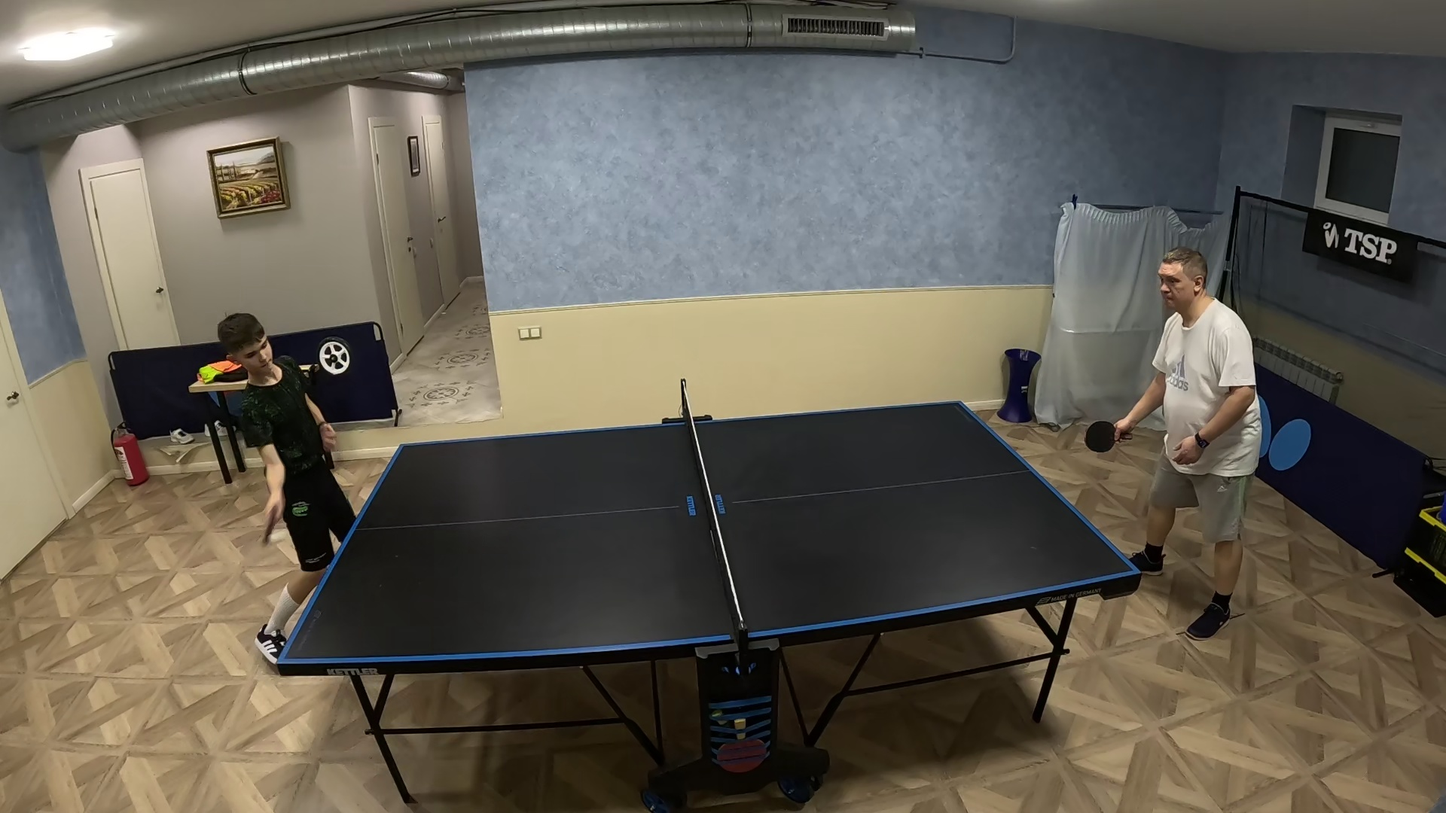Ball: (269, 532, 284, 543)
